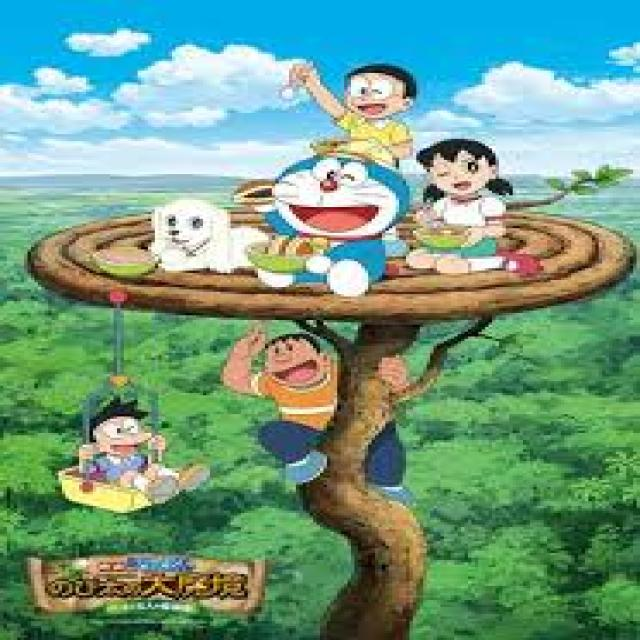doraemon: (238, 132, 430, 259)
jaian: (220, 308, 392, 405)
nobita: (306, 47, 430, 139)
shizuka: (392, 118, 526, 210)
suneo: (75, 398, 168, 473)
